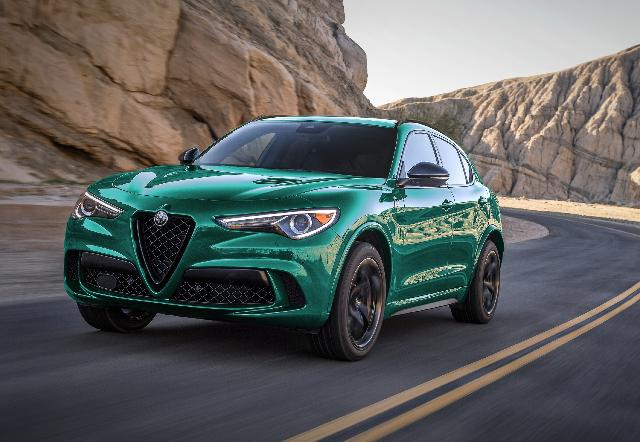alpha-romeo: (62, 115, 506, 362)
